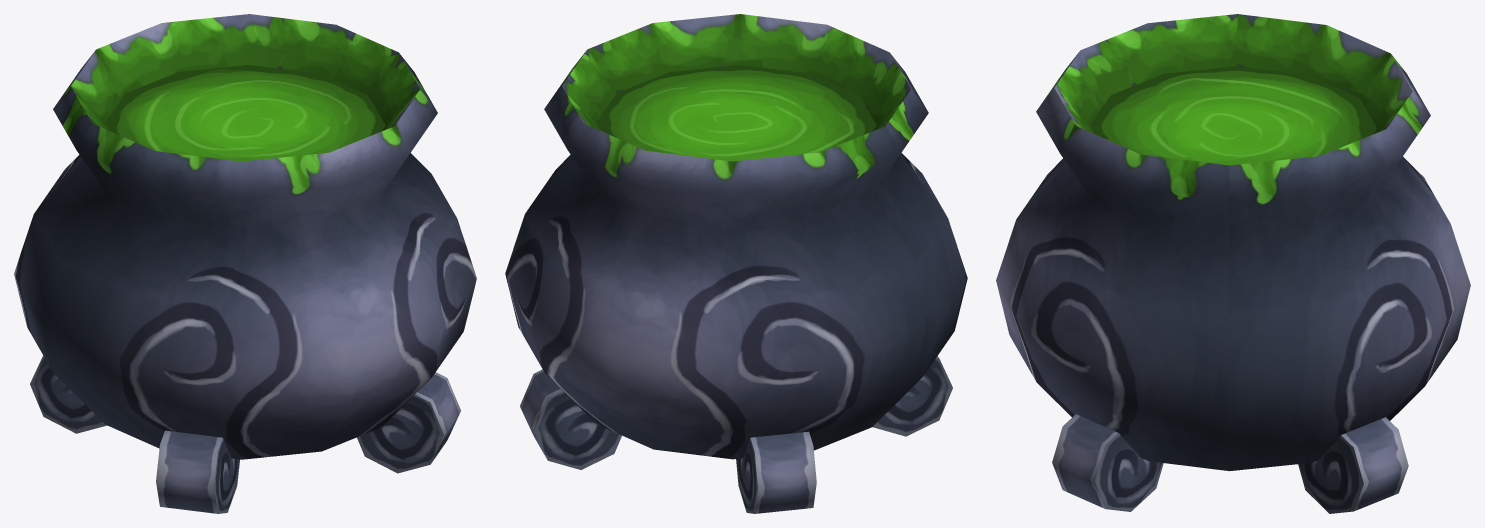
The model's file is cauldron_01.fbx.
3 renders of one model, left to right at view 1: azimuth 30°, elevation 25°; view 2: azimuth 150°, elevation 25°; view 3: azimuth 270°, elevation 25°, orthographic. The views are drawn at different scales.
Parts seen in each view (by area): view 1: cauldron_01; view 2: cauldron_01; view 3: cauldron_01.
Part boxes in pixels (left/top/right/bottom): cauldron_01: left=14, top=14, right=476, bottom=513; cauldron_01: left=505, top=14, right=967, bottom=513; cauldron_01: left=996, top=14, right=1470, bottom=513.
Size of the model in its own units: 4.55 by 3.83 by 4.55.
